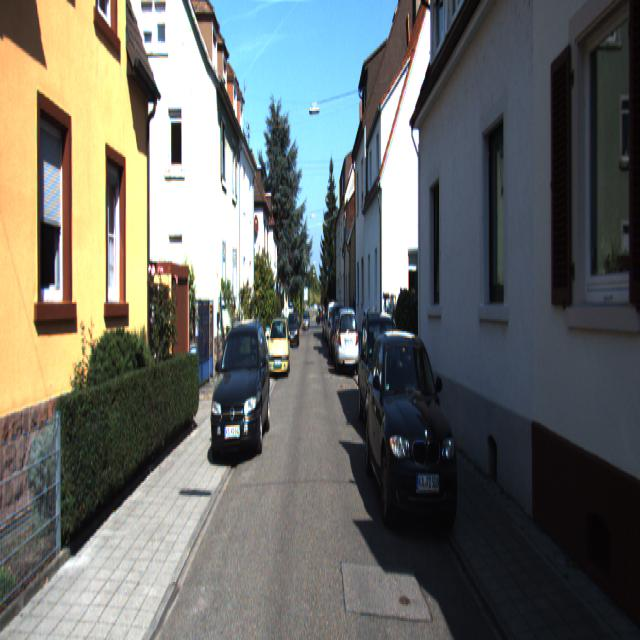Car: (364, 323, 462, 553), (210, 316, 271, 472), (358, 308, 410, 443), (335, 307, 360, 379), (268, 316, 290, 380)
